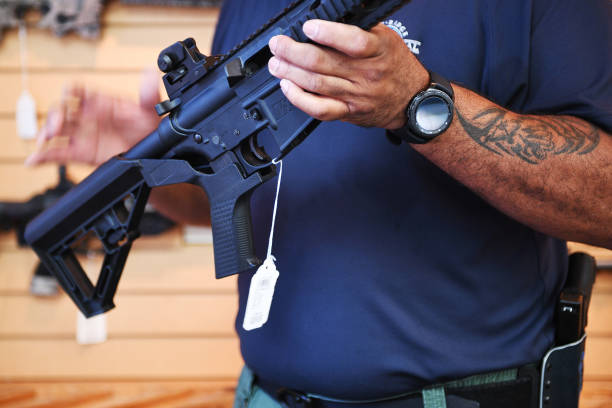rifle: (30, 7, 328, 288)
